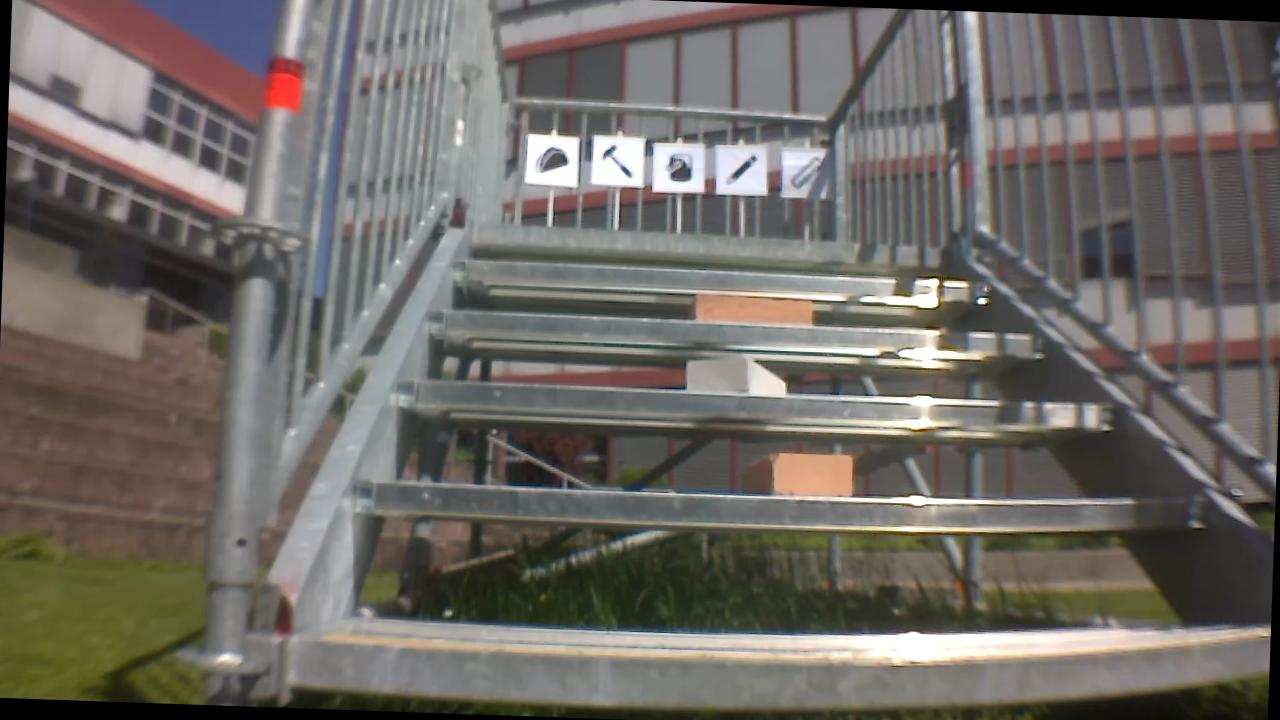brick: (677, 351, 786, 399), (692, 289, 817, 328), (766, 448, 854, 503)
edge: (281, 594, 1270, 719), (344, 462, 1216, 552), (393, 376, 1131, 434), (422, 313, 1049, 364), (445, 261, 998, 305), (470, 224, 952, 267)
steps: (270, 214, 1280, 716)
